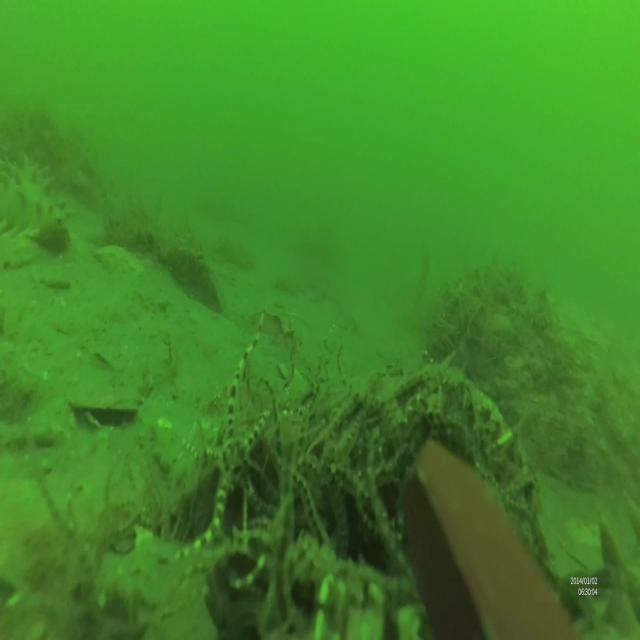holothurian: (552, 492, 640, 638), (1, 151, 71, 252)
scallop: (69, 380, 139, 431)
starfish: (158, 317, 314, 568)
